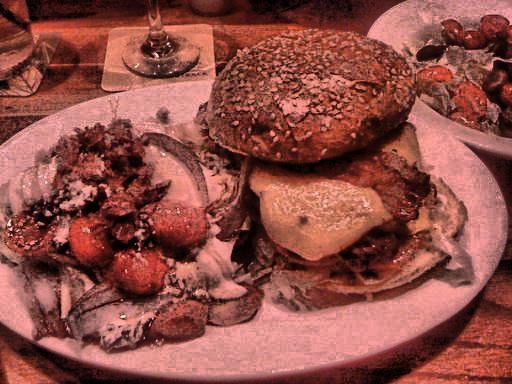burger: (196, 29, 468, 305)
